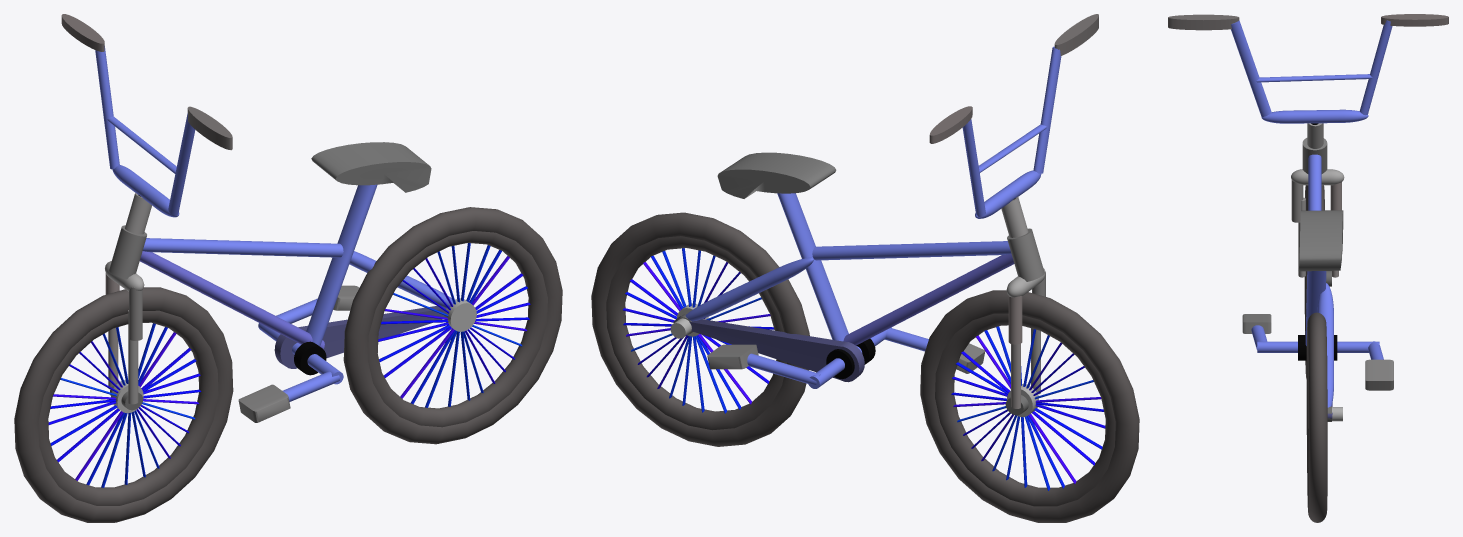
Rendered from kei-yuen-bicycle-2.obj.
3 renders of one model, left to right at view 1: azimuth 30°, elevation 25°; view 2: azimuth 150°, elevation 25°; view 3: azimuth 270°, elevation 25°, orthographic. The views are drawn at different scales.
Parts seen in each view (by area): view 1: Torus5, Torus3, Torus6, Torus4, Cylinder2, Cylinder8, Cylinder11, Cylinder44, Cylinder, Box, Cylinder46, Cylinder54 (+12 smaller); view 2: Torus3, Torus5, Torus4, Torus6, Cylinder, Cylinder2, Cylinder11, Cylinder8, Cylinder44, Capsule, Cylinder55, Cylinder46 (+9 smaller); view 3: Torus5, Cylinder2, Capsule2, Cylinder55, Capsule, Cylinder58, Box1, Cylinder54, Cylinder56, Cylinder11, Cylinder8, Cylinder60 (+8 smaller).
Part boxes in pixels (<box>): Torus5: <box>343,207,562,444</box>; Torus3: <box>14,287,233,522</box>; Torus6: <box>368,231,547,427</box>; Torus4: <box>38,310,218,505</box>; Cylinder2: <box>311,142,431,192</box>; Cylinder8: <box>306,184,377,346</box>; Cylinder11: <box>142,238,343,257</box>; Cylinder44: <box>140,251,324,348</box>; Cylinder: <box>274,306,445,368</box>; Box: <box>238,384,290,422</box>; Cylinder46: <box>109,225,146,279</box>; Cylinder54: <box>95,46,119,169</box>; Torus3: <box>920,290,1139,522</box>; Torus5: <box>591,212,809,446</box>; Torus4: <box>935,313,1115,506</box>; Torus6: <box>606,236,786,430</box>; Cylinder: <box>673,316,864,382</box>; Cylinder2: <box>717,152,836,198</box>; Cylinder11: <box>812,241,1011,260</box>; Cylinder8: <box>777,193,848,341</box>; Cylinder44: <box>843,254,1014,345</box>; Capsule: <box>685,257,813,321</box>; Cylinder55: <box>1033,46,1061,173</box>; Cylinder46: <box>1007,228,1044,281</box>; Torus5: <box>1306,312,1327,522</box>; Cylinder2: <box>1298,210,1343,271</box>; Capsule2: <box>1261,109,1368,123</box>; Cylinder55: <box>1231,20,1271,116</box>; Capsule: <box>1317,283,1333,407</box>; Cylinder58: <box>1168,14,1239,30</box>; Box1: <box>1365,359,1393,390</box>; Cylinder54: <box>1359,20,1392,115</box>; Cylinder56: <box>1381,14,1448,26</box>; Cylinder11: <box>1308,154,1321,210</box>; Cylinder8: <box>1305,271,1326,345</box>; Cylinder60: <box>1256,74,1372,82</box>.
Size of the model in its own units: 14.15 by 10.95 by 7.54.
